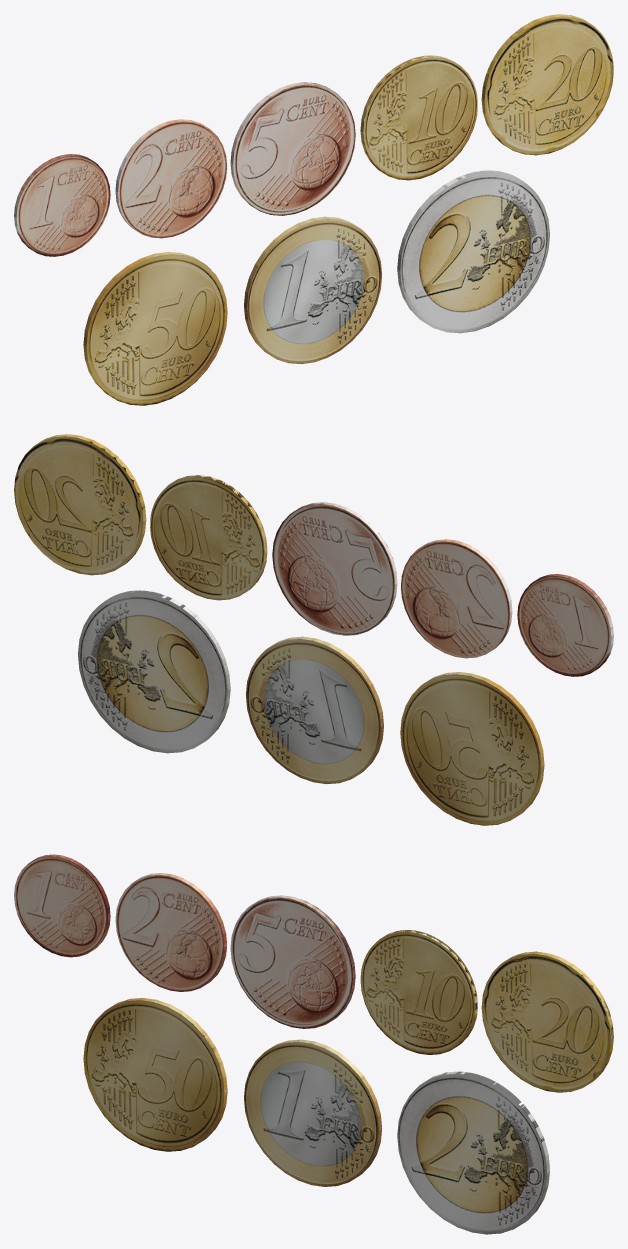
Rendered from coins.fbx.
3 renders of one model, top to bottom at view 1: azimuth 30°, elevation 25°; view 2: azimuth 150°, elevation 25°; view 3: azimuth 330°, elevation 25°, orthographic.
Parts seen in each view (by area): view 1: 2euros, 50cent, 1euro, 20cent, 5cent, 10cent, 2cents, 1cent; view 2: 2euros, 50cent, 1euro, 20cent, 5cent, 10cent, 2cents, 1cent; view 3: 2euros, 50cent, 1euro, 20cent, 5cent, 10cent, 2cents, 1cent.
Boxes of the visible parts, box(x1,y1,x2,y2) form: 2euros: box(397, 170, 549, 333); 50cent: box(83, 252, 227, 405); 1euro: box(244, 216, 381, 364); 20cent: box(481, 14, 613, 155); 5cent: box(230, 82, 355, 215); 10cent: box(360, 55, 477, 180); 2cents: box(115, 119, 226, 238); 1cent: box(14, 154, 110, 256); 2euros: box(78, 590, 230, 753); 50cent: box(400, 672, 544, 825); 1euro: box(246, 636, 383, 784); 20cent: box(14, 434, 146, 575); 5cent: box(272, 502, 397, 635); 10cent: box(150, 475, 267, 600); 2cents: box(401, 539, 512, 658); 1cent: box(517, 574, 613, 676); 2euros: box(397, 1071, 549, 1234); 50cent: box(83, 998, 227, 1151); 1euro: box(244, 1039, 382, 1186); 20cent: box(481, 951, 613, 1092); 5cent: box(230, 895, 355, 1028); 10cent: box(360, 930, 477, 1054); 2cents: box(115, 873, 226, 991); 1cent: box(14, 854, 110, 957).
Bounding box in the file's own units: 485 × 229 × 4.38.
Materials: 1 (1 with a texture image).
